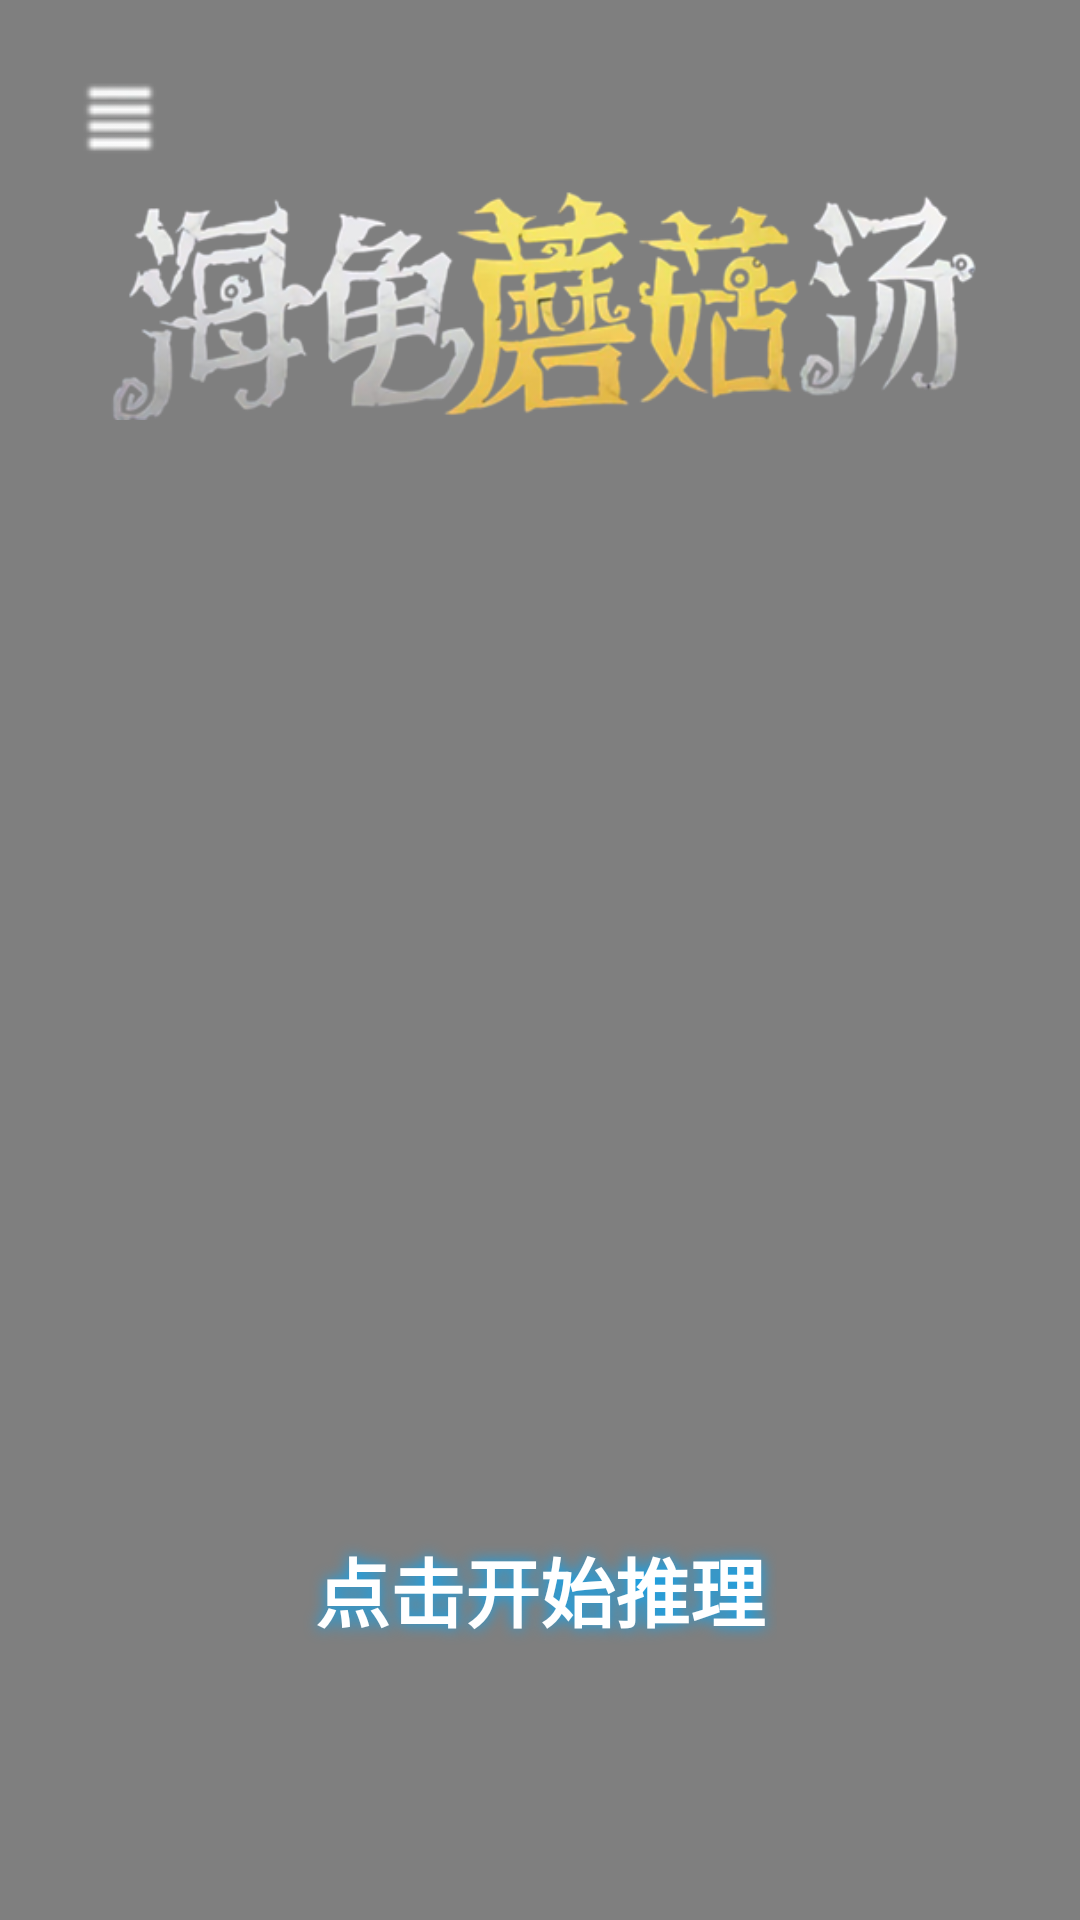

Named icons in this screenshot (1080 × 1920) and their bounding boxes, (x1, y1, x2, y2):
菜单按钮: (87, 86, 153, 151)
